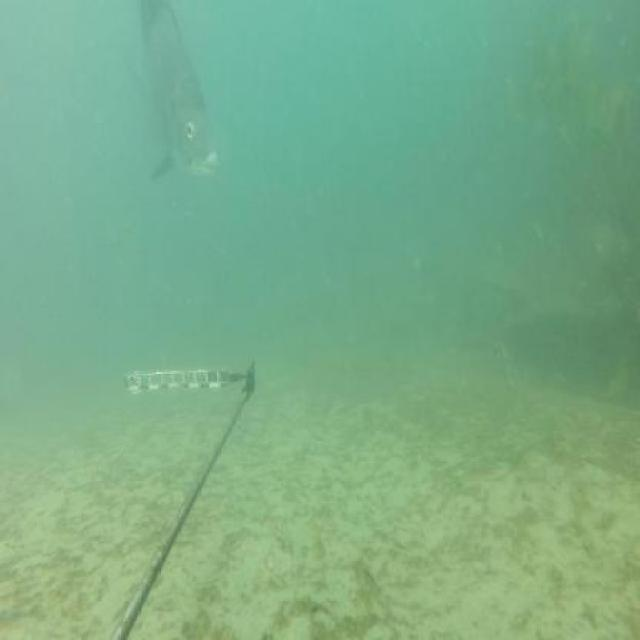acanthopagrus_palmaris: (124, 0, 225, 191)
